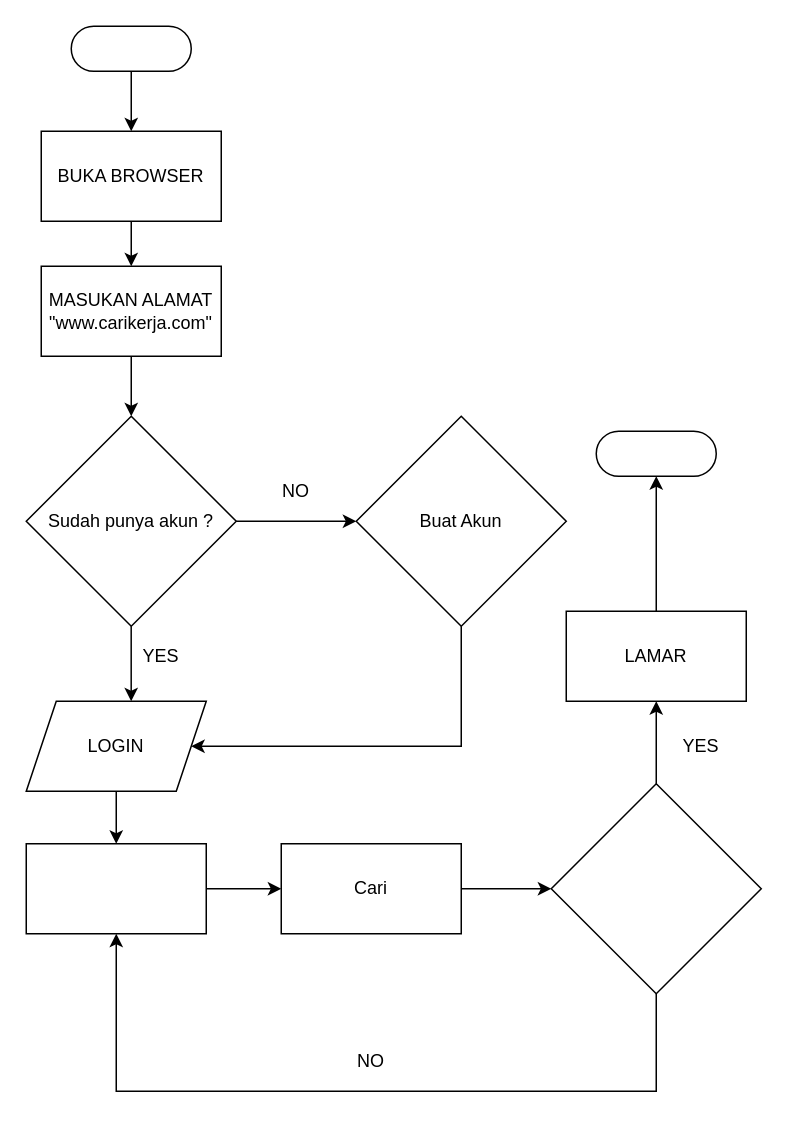
Some shapes in this 788 by 1130 pixel diagram are drawn without their labels. Each missing label, with the centre of its shape:
"Ada Pekerjaan Cocok" belongs at (655,888).
"END" belongs at (655,453).
"Masukan Kriteria Pekerjaan" belongs at (115,888).
"START" belongs at (130,48).
